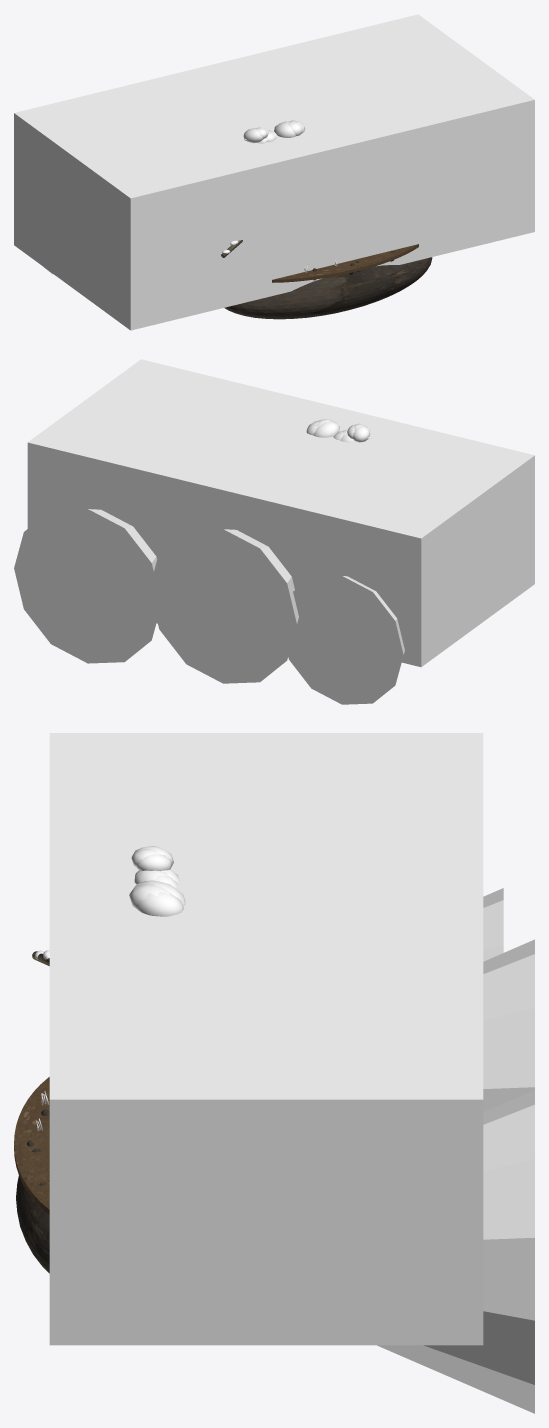
The model's file is spring-hero.glb.
The picture shows the model from 3 angles, top to bottom: view 1: azimuth 30°, elevation 25°; view 2: azimuth 150°, elevation 25°; view 3: azimuth 270°, elevation 25°; orthographic projection. The views are drawn at different scales.
Parts seen in each view (by area): view 1: Cloud volume, Floating_Island, Grass_Cap; view 2: Cloud volume, Distant mountain 2, Distant mountain 4, Distant mountain 0; view 3: Cloud volume, Distant mountain 4, Distant mountain 2, Grass_Cap, Floating_Island, Distant mountain 0, Spring canopy_1.003.
Boxes of the visible parts, left/top/right/bottom form: Cloud volume: left=14, top=14, right=534, bottom=330; Floating_Island: left=224, top=257, right=432, bottom=319; Grass_Cap: left=272, top=244, right=418, bottom=282; Cloud volume: left=27, top=359, right=534, bottom=667; Distant mountain 2: left=149, top=529, right=298, bottom=683; Distant mountain 4: left=14, top=509, right=160, bottom=663; Distant mountain 0: left=288, top=576, right=404, bottom=704; Cloud volume: left=49, top=733, right=483, bottom=1345; Distant mountain 4: left=377, top=1090, right=534, bottom=1413; Distant mountain 2: left=483, top=939, right=534, bottom=1111; Grass_Cap: left=14, top=1077, right=49, bottom=1214; Floating_Island: left=16, top=1176, right=49, bottom=1273; Distant mountain 0: left=483, top=888, right=503, bottom=961; Spring canopy_1.003: left=137, top=892, right=183, bottom=916.
Bounding box in the file's own units: 32 × 15.92 × 19.22.
23 materials, 5 textured.
